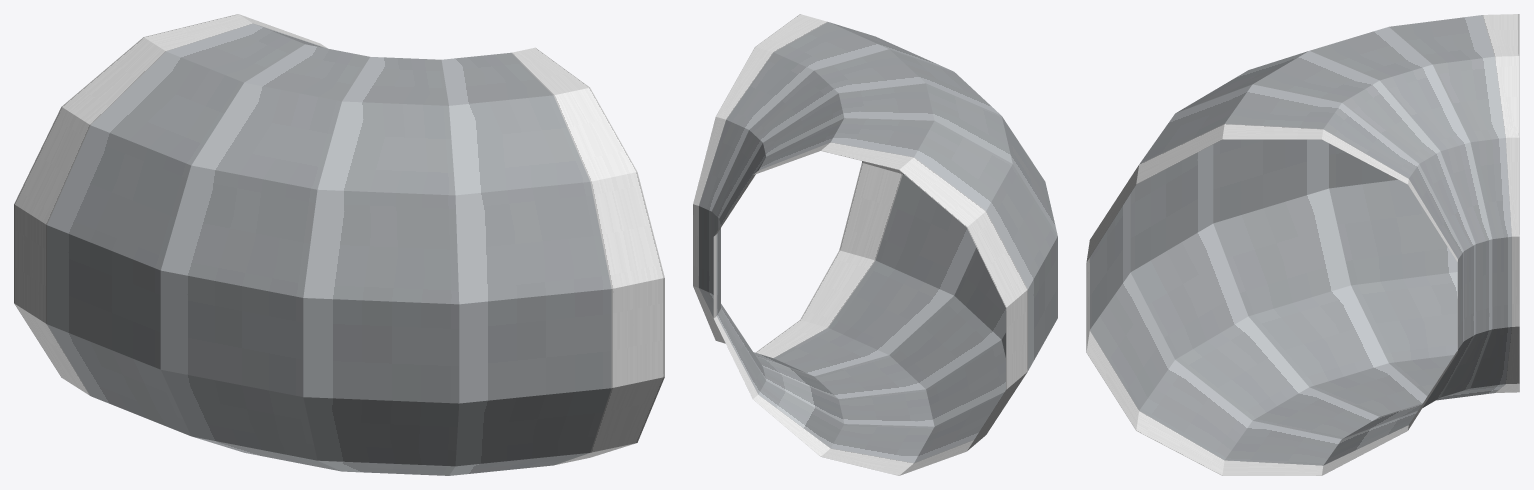
Rendered from connection_36.obj.
3 renders of one model, left to right at view 1: azimuth 30°, elevation 25°; view 2: azimuth 150°, elevation 25°; view 3: azimuth 270°, elevation 25°, orthographic. The views are drawn at different scales.
Size of the model in its own units: 0.875 by 0.75 by 0.875.
